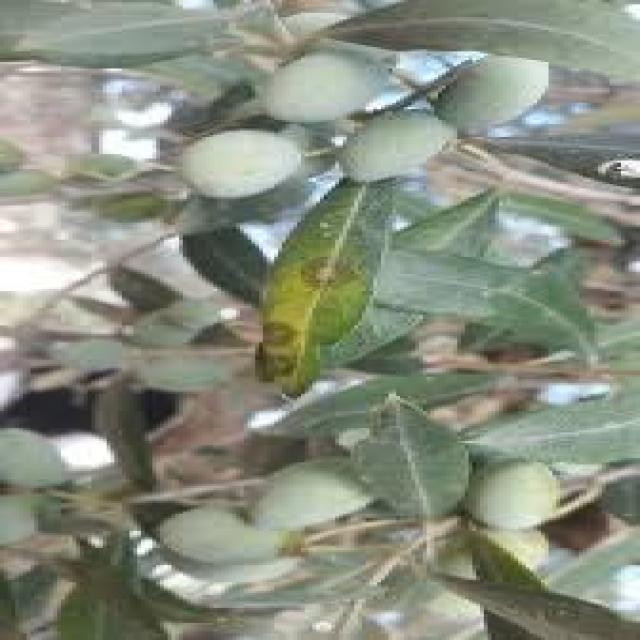Peacock Eye: (259, 178, 392, 394)
